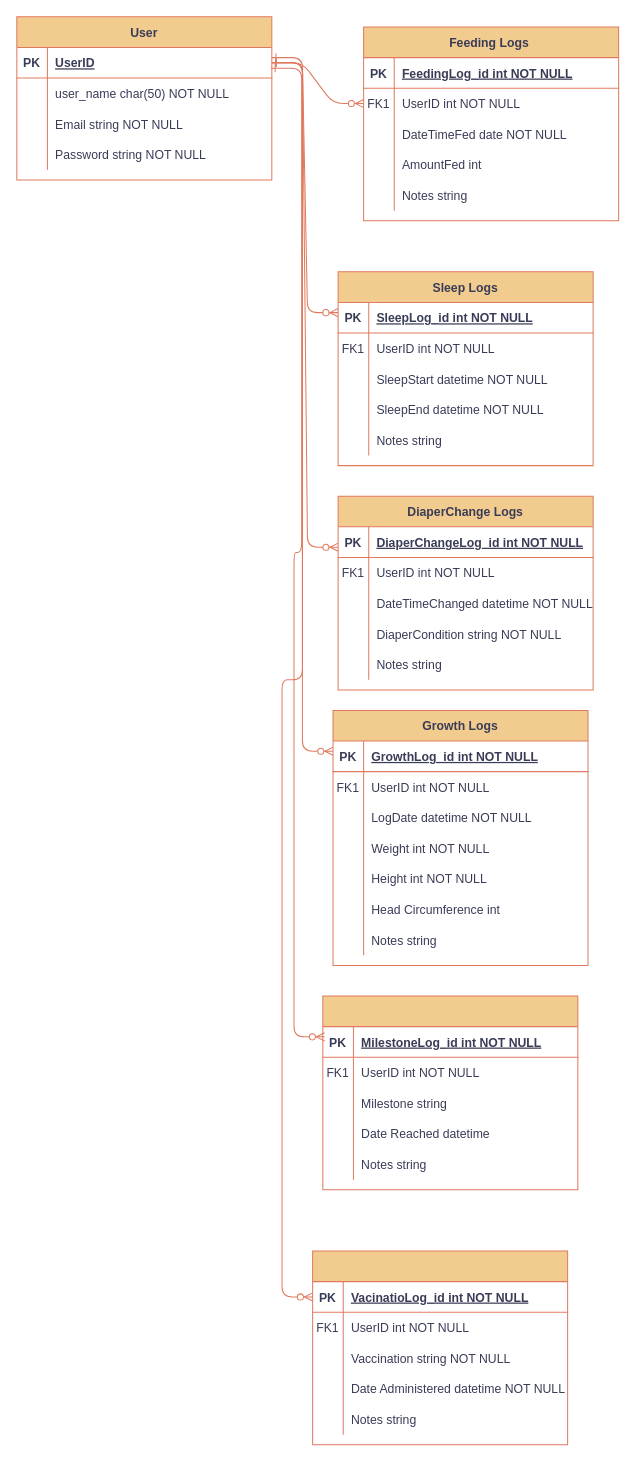
Image size: 635x1462. Some labels were removed from this diagram. The shapes that lost their labels are listed below. From the top down, each one's box as (x1, y1, x2, y2) in pixels, then its label:
(322, 995, 578, 1190): Milestone Logs
(312, 1250, 568, 1445): Vacination Logs
